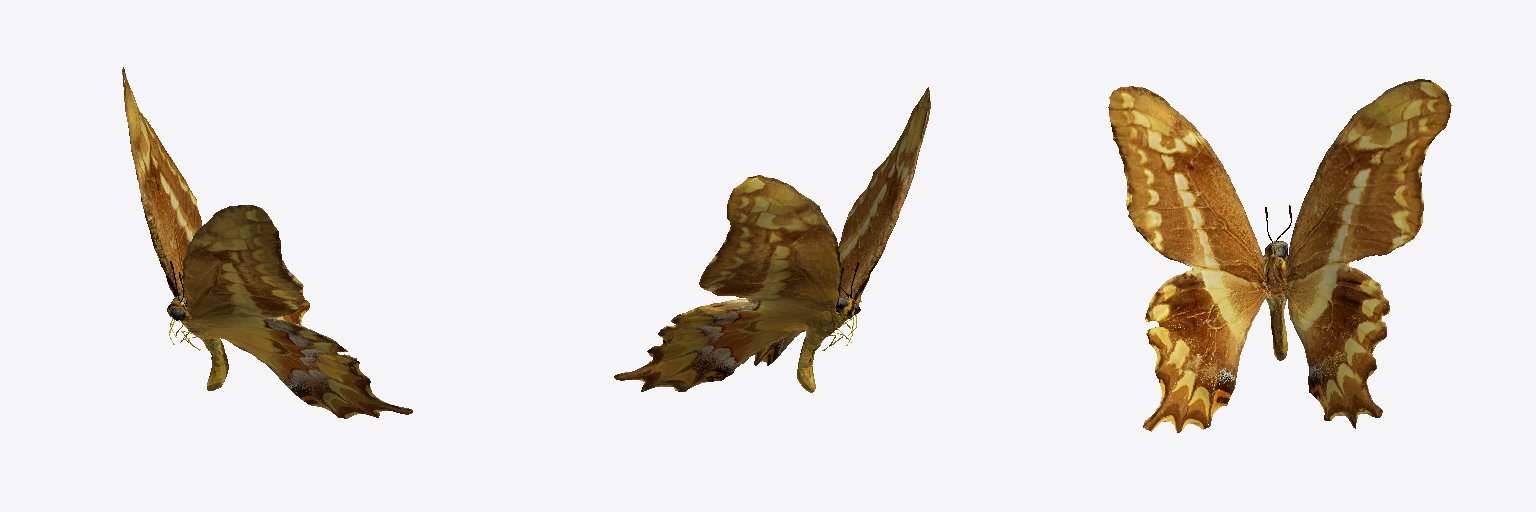
3 views of the same model, side by side, from view 1: azimuth 30°, elevation 25°; view 2: azimuth 150°, elevation 25°; view 3: azimuth 270°, elevation 25° (orthographic).
Visible parts, largest first — view 1: Schaus_SwallowtailAB.001; view 2: Schaus_SwallowtailAB.001; view 3: Schaus_SwallowtailAB.001.
Part boxes in pixels (left/top/right/bottom): Schaus_SwallowtailAB.001: left=122, top=67, right=412, bottom=418; Schaus_SwallowtailAB.001: left=614, top=87, right=930, bottom=392; Schaus_SwallowtailAB.001: left=1108, top=79, right=1451, bottom=432.
Bounding box in the file's own units: 10.54 × 14.36 × 15.08.
Materials: 5 (1 with a texture image).